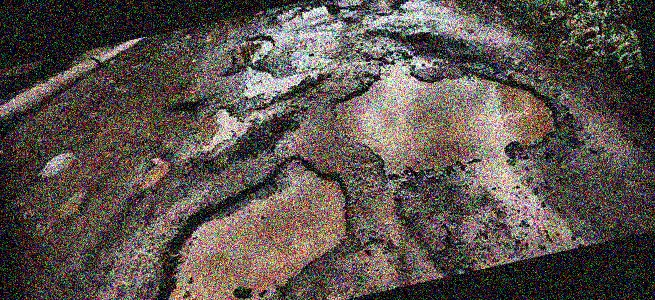pothole: (107, 144, 371, 300), (324, 31, 565, 193), (182, 101, 250, 157), (141, 99, 200, 141), (228, 29, 281, 72), (131, 153, 177, 192), (287, 0, 351, 25), (395, 0, 433, 15)
